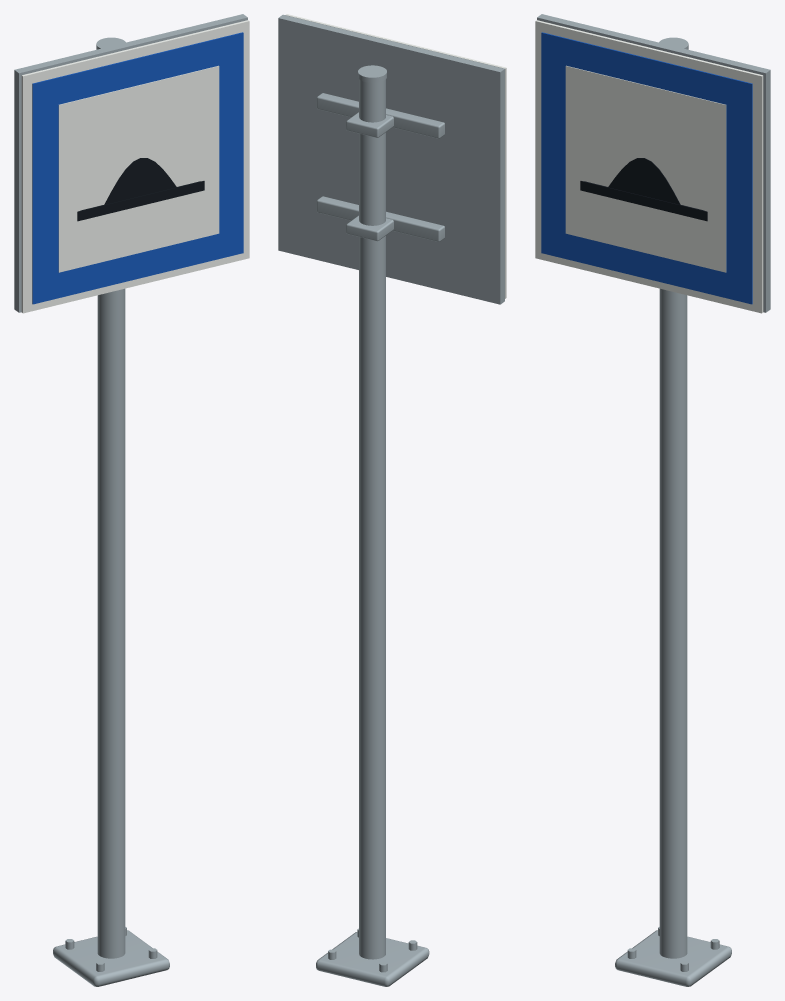
Rendered from DS_Sign_BumpInfo.fbx.
3 views of the same model, side by side, from view 1: azimuth 30°, elevation 25°; view 2: azimuth 150°, elevation 25°; view 3: azimuth 330°, elevation 25° (orthographic). The views are drawn at different scales.
Visible parts, largest first — view 1: InnerSquare, Face_Field.019, Post.026, Face_Border.019, Plate_Back.034, BasePlate.026, BumpShape.001, BumpRoad.001; view 2: Plate_Back.034, Post.026, BasePlate.026, RearRail.055, RearRail.056, Face_Border.019, PostClamp.051, PostClamp.052; view 3: InnerSquare, Face_Field.019, Post.026, Face_Border.019, Plate_Back.034, BasePlate.026, BumpShape.001, BumpRoad.001.
Part boxes in pixels (x1=…): InnerSquare: x1=58, y1=65, x2=219, y2=272; Face_Field.019: x1=32, y1=32, x2=243, y2=304; Post.026: x1=97, y1=288, x2=125, y2=958; Face_Border.019: x1=21, y1=20, x2=249, y2=313; Plate_Back.034: x1=14, y1=14, x2=247, y2=312; BasePlate.026: x1=53, y1=930, x2=169, y2=986; BumpShape.001: x1=80, y1=158, x2=200, y2=210; BumpRoad.001: x1=77, y1=181, x2=204, y2=221; Plate_Back.034: x1=278, y1=14, x2=504, y2=304; Post.026: x1=359, y1=79, x2=385, y2=959; BasePlate.026: x1=316, y1=932, x2=429, y2=986; RearRail.055: x1=316, y1=196, x2=444, y2=241; RearRail.056: x1=316, y1=93, x2=444, y2=138; Face_Border.019: x1=285, y1=14, x2=506, y2=298; PostClamp.051: x1=346, y1=215, x2=393, y2=241; PostClamp.052: x1=346, y1=112, x2=393, y2=137; InnerSquare: x1=565, y1=65, x2=726, y2=272; Face_Field.019: x1=541, y1=32, x2=752, y2=304; Post.026: x1=659, y1=288, x2=687, y2=958; Face_Border.019: x1=535, y1=20, x2=763, y2=313; Plate_Back.034: x1=537, y1=14, x2=770, y2=312; BasePlate.026: x1=615, y1=930, x2=731, y2=986; BumpShape.001: x1=584, y1=158, x2=704, y2=210; BumpRoad.001: x1=580, y1=181, x2=707, y2=221.
Bounding box in the file's own units: 72 × 281 × 28.2.
